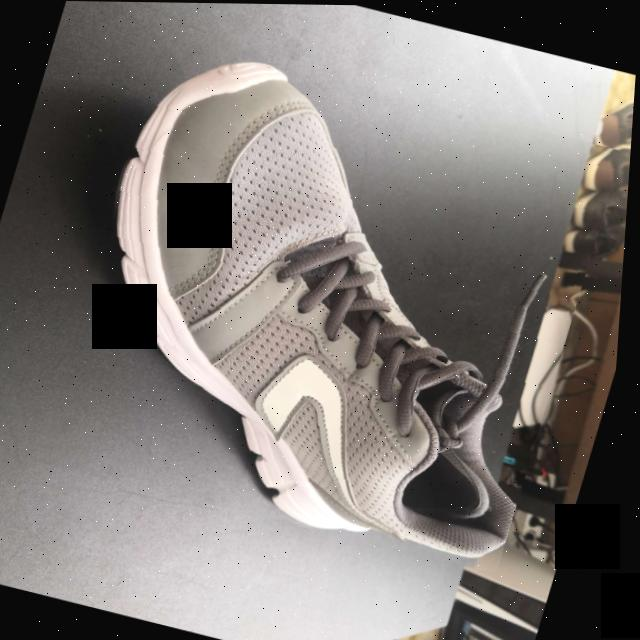shoe: (31, 33, 629, 576)
